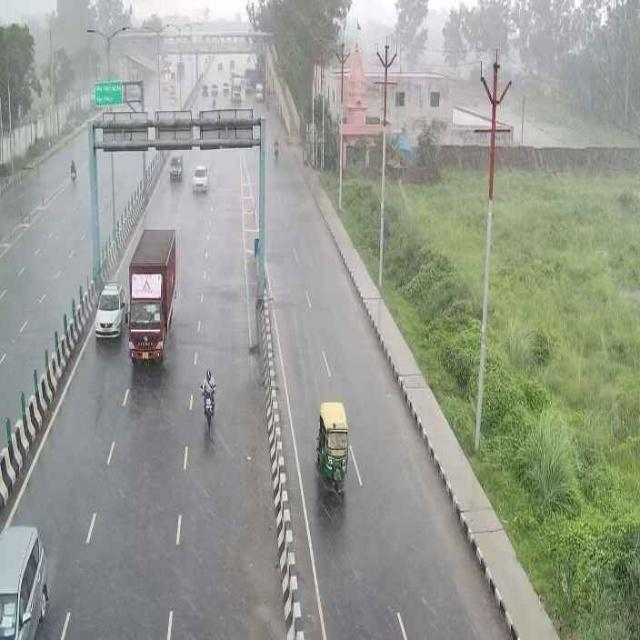car: (1, 517, 51, 640), (92, 277, 123, 342), (188, 160, 213, 196), (164, 149, 188, 185)
